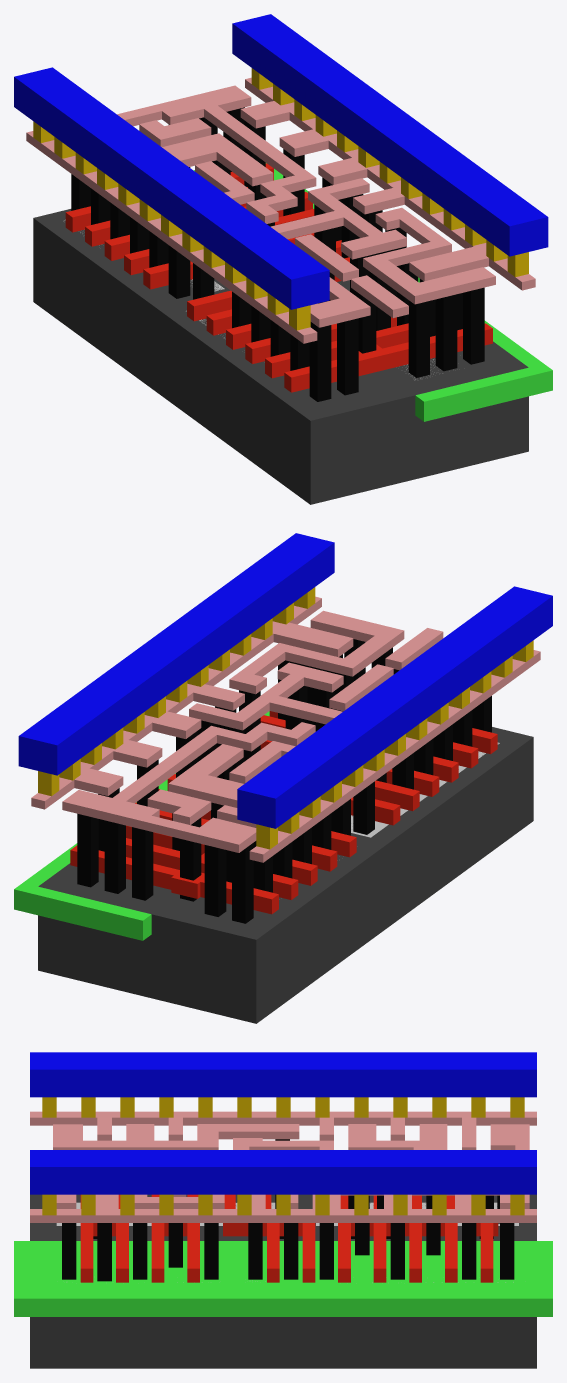
Rendered from sky130_fd_sc_hd__o21ba_4.obj.
3 views of the same model, one above another, from view 1: azimuth 30°, elevation 25°; view 2: azimuth 150°, elevation 25°; view 3: azimuth 270°, elevation 25° (orthographic). The views are drawn at different scales.
Parts seen in each view (by area): view 1: subs, metal1, li, licon, poly, mcon, nwell; view 2: subs, metal1, li, licon, poly, mcon, nwell; view 3: metal1, nwell, subs, li, poly, licon, mcon.
Part boxes in pixels (x1,y1,x2,y2): subs: (33, 209, 528, 504); metal1: (14, 14, 548, 309); li: (26, 77, 535, 343); licon: (71, 107, 484, 401); poly: (65, 163, 492, 392); mcon: (33, 68, 528, 330); nwell: (193, 163, 552, 421); subs: (38, 727, 533, 1023); metal1: (18, 533, 552, 828); li: (31, 596, 540, 862); licon: (77, 639, 491, 923); poly: (70, 711, 497, 914); mcon: (38, 587, 533, 849); nwell: (14, 711, 269, 940); metal1: (30, 1052, 536, 1194); nwell: (14, 1241, 552, 1316); subs: (30, 1194, 536, 1368); li: (30, 1111, 536, 1222); poly: (80, 1194, 498, 1282); licon: (62, 1139, 514, 1281); mcon: (42, 1097, 524, 1215).
Size of the model in its own units: 3.2 by 2.74 by 6.36.
